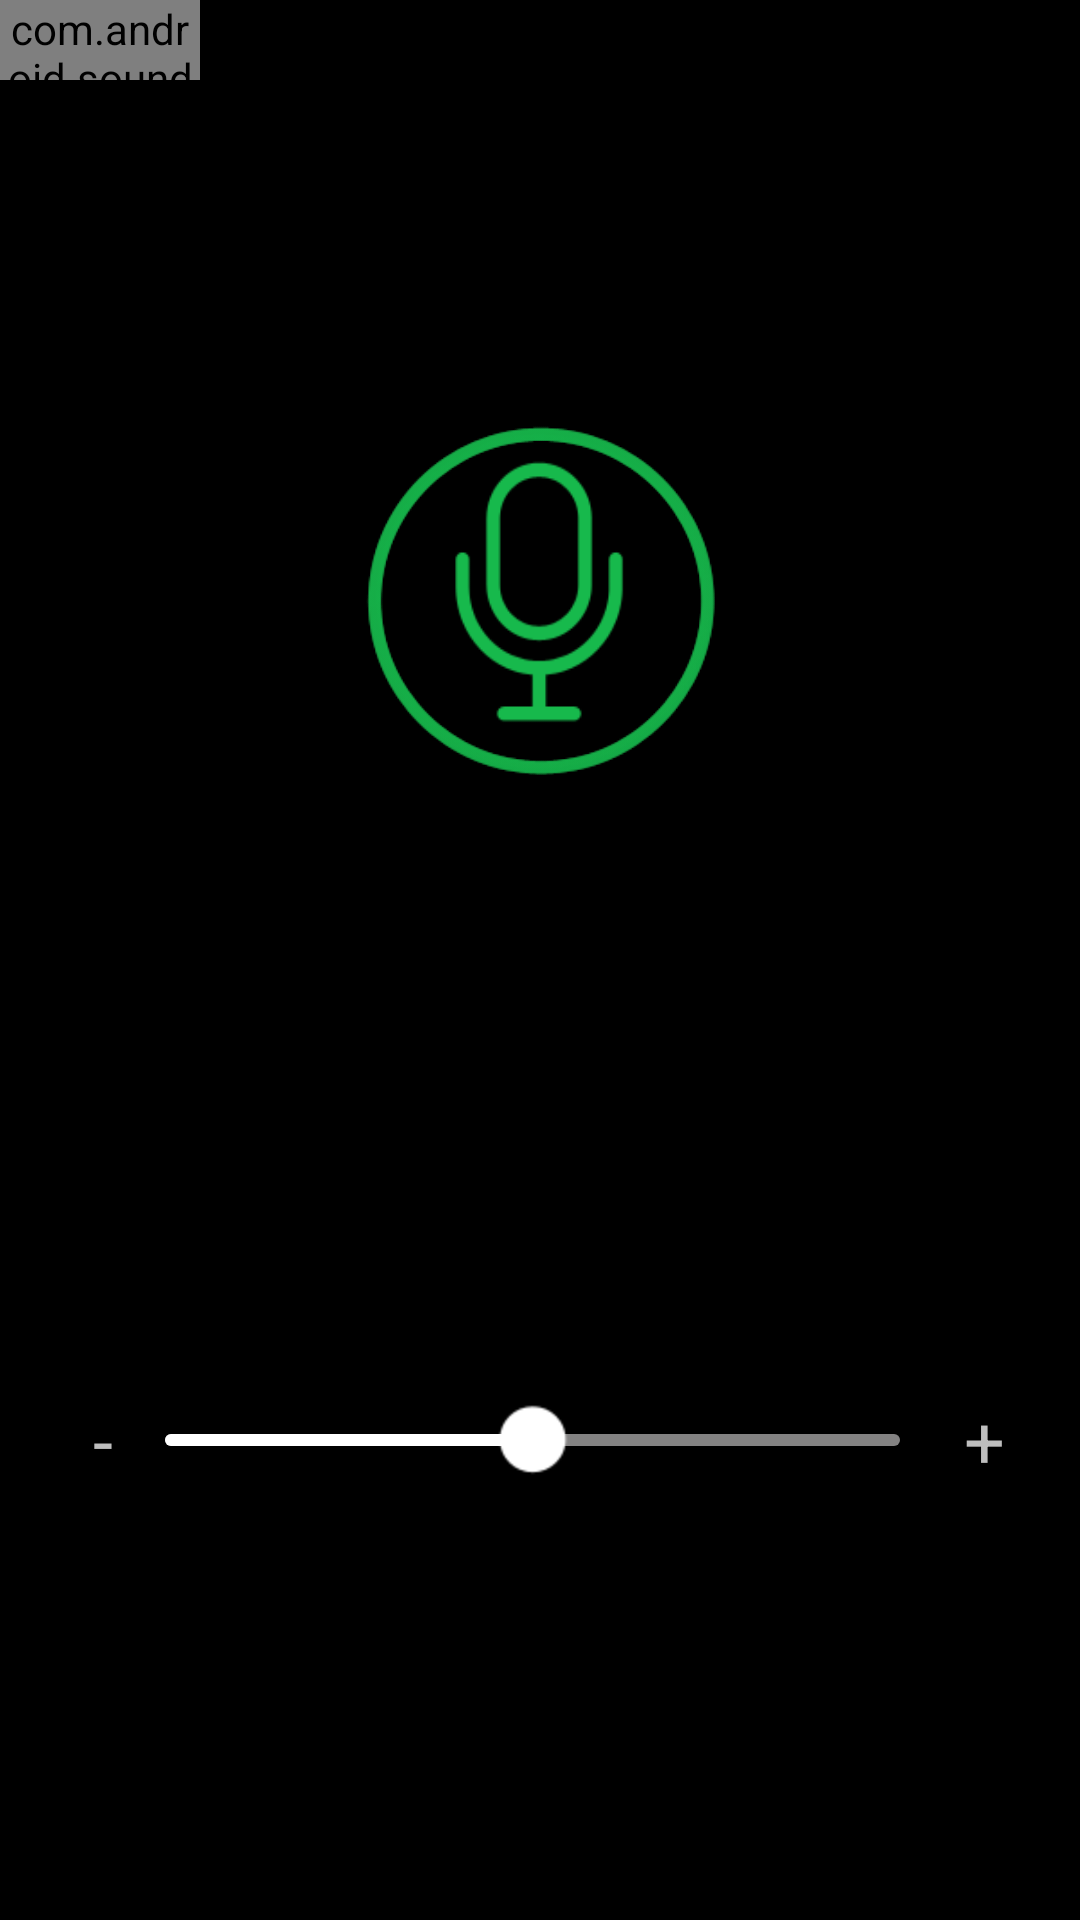

Screen size 1080x1920. Icon name, then its box in pixels as (x1, y1, x2, y2):
microphone: (455, 462, 623, 722)
